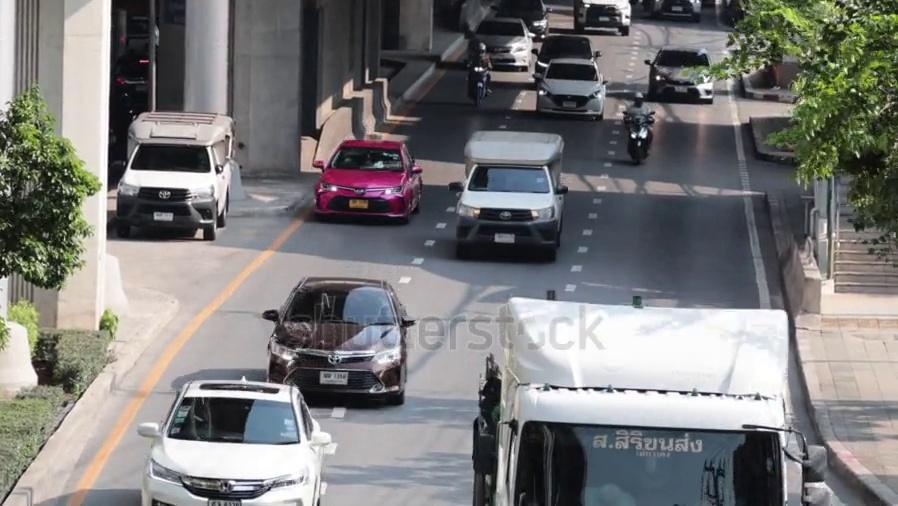rider: (621, 86, 657, 162), (467, 41, 493, 101)
with_helmate: (632, 92, 644, 109), (475, 44, 486, 56)
